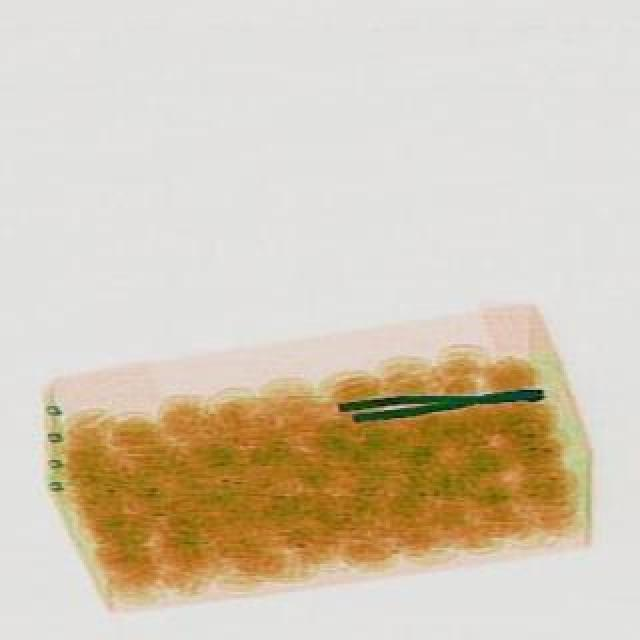wrench: (332, 376, 540, 424)
